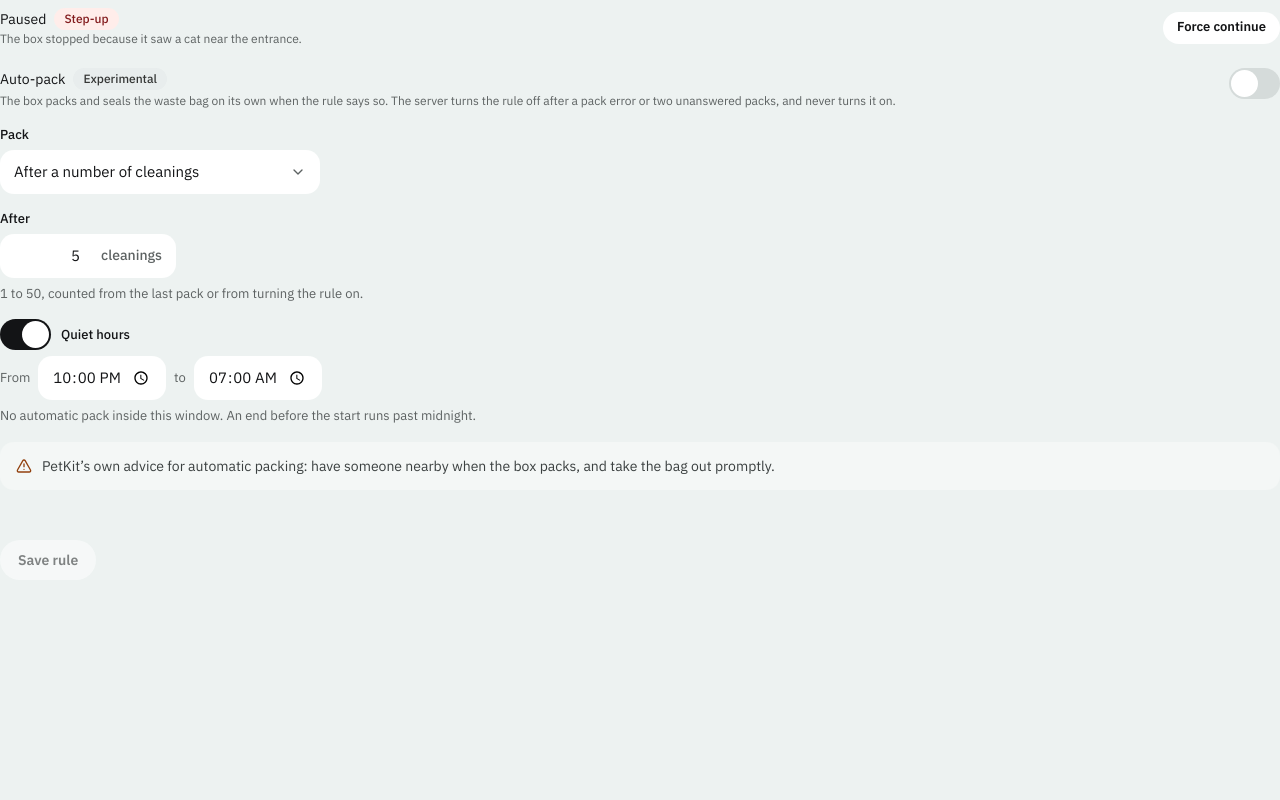
Test: Force continue › sends nothing when the confirm is dismissed
This screenshot has width=1280, height=800.
Click the button "Force continue": {"x": 1222, "y": 28} [1163,12,1279,44]
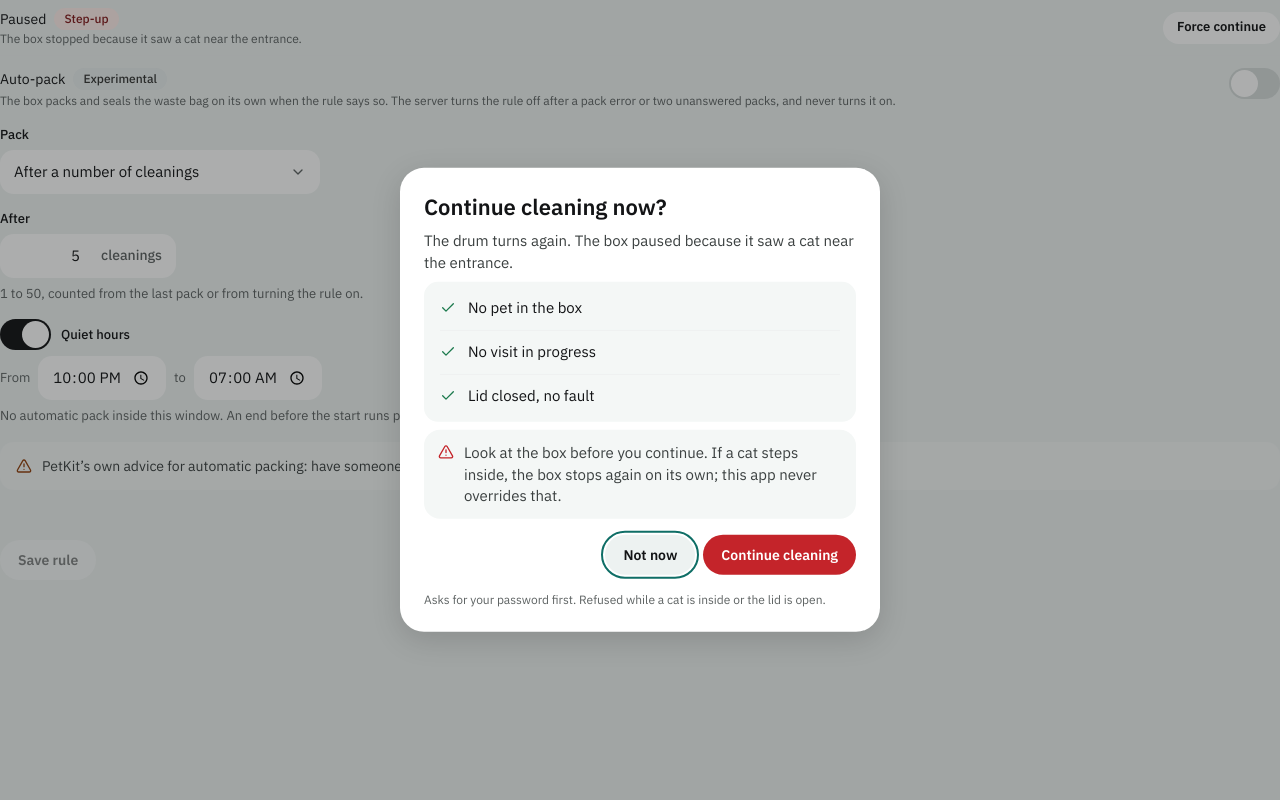
Click the button "Not now": {"x": 650, "y": 555} [606,535,695,575]
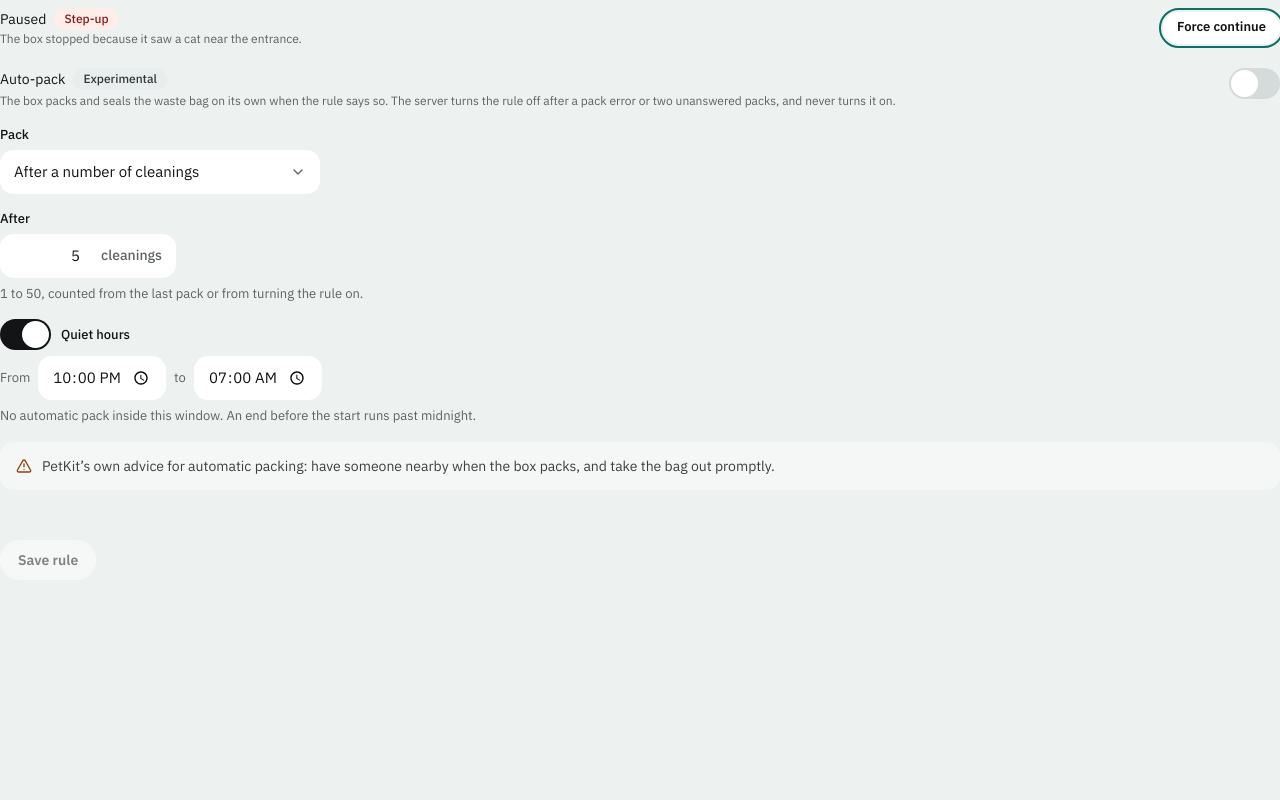
Now the dialog is gone
